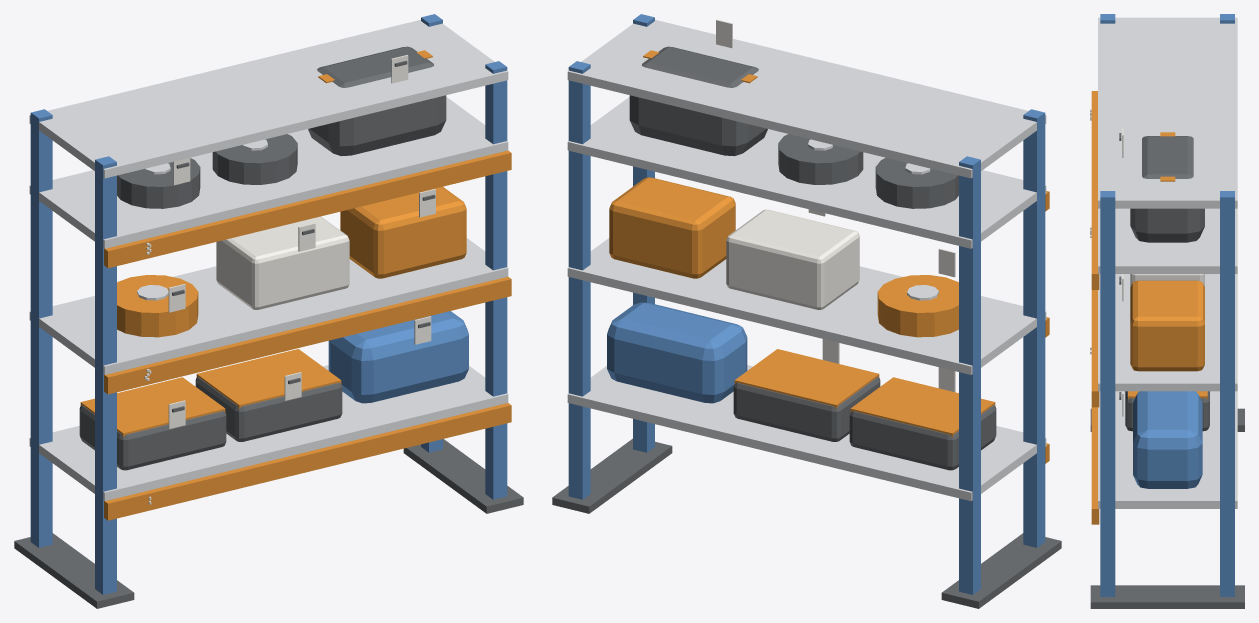
File: tool-hire-depot-and-plant-yard-tool-hire-depot-and-pla-8edbbc98__35306.glb
The picture shows the model from 3 angles, left to right: view 1: azimuth 30°, elevation 25°; view 2: azimuth 150°, elevation 25°; view 3: azimuth 270°, elevation 25°; orthographic projection. The views are drawn at different scales.
Visible parts, largest first — view 1: tool-hire-depot-and-plant-yard-collection-rack-with-tagged-t (×5); view 2: tool-hire-depot-and-plant-yard-collection-rack-with-tagged-t (×5); view 3: tool-hire-depot-and-plant-yard-collection-rack-with-tagged-t (×5).
Boxes of the visible parts, <box> form: tool-hire-depot-and-plant-yard-collection-rack-with-tagged-t (×5): <box>14,14,523,608</box>; tool-hire-depot-and-plant-yard-collection-rack-with-tagged-t (×5): <box>552,14,1061,608</box>; tool-hire-depot-and-plant-yard-collection-rack-with-tagged-t (×5): <box>1090,14,1244,608</box>.
Size of the model in its own units: 1.84 by 1.9 by 0.6219.
